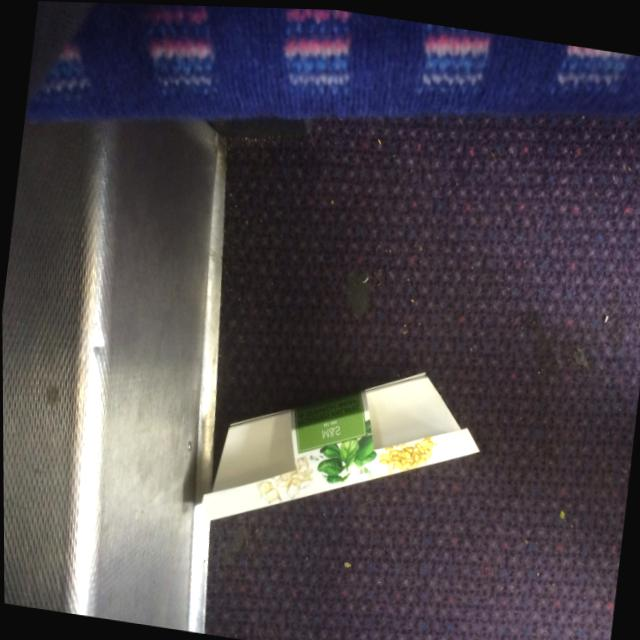Paper: (187, 325, 494, 569)
